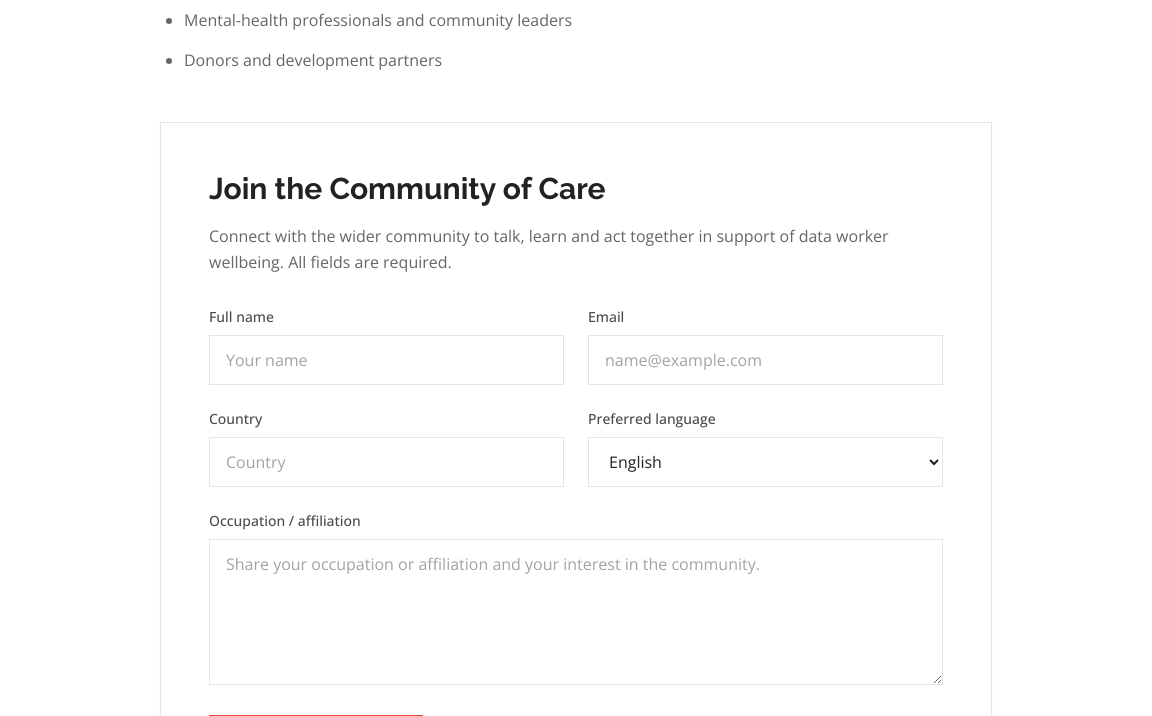
Test case: shows the service error when registration requires activation
(page scrolled)
Type "Test Member" into the field labelled "Full name" at coordinates (386, 360), box [209, 335, 564, 385]
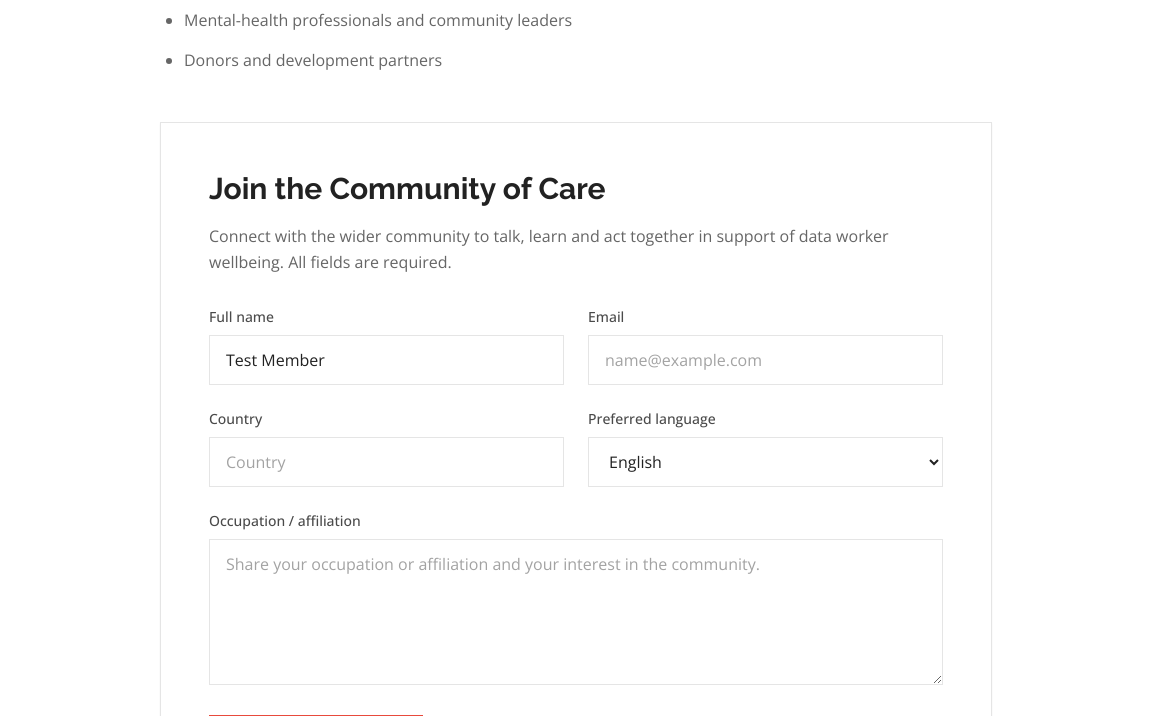
Type "member@example.com" into the field labelled "Email" at coordinates (766, 360), box [588, 335, 943, 385]
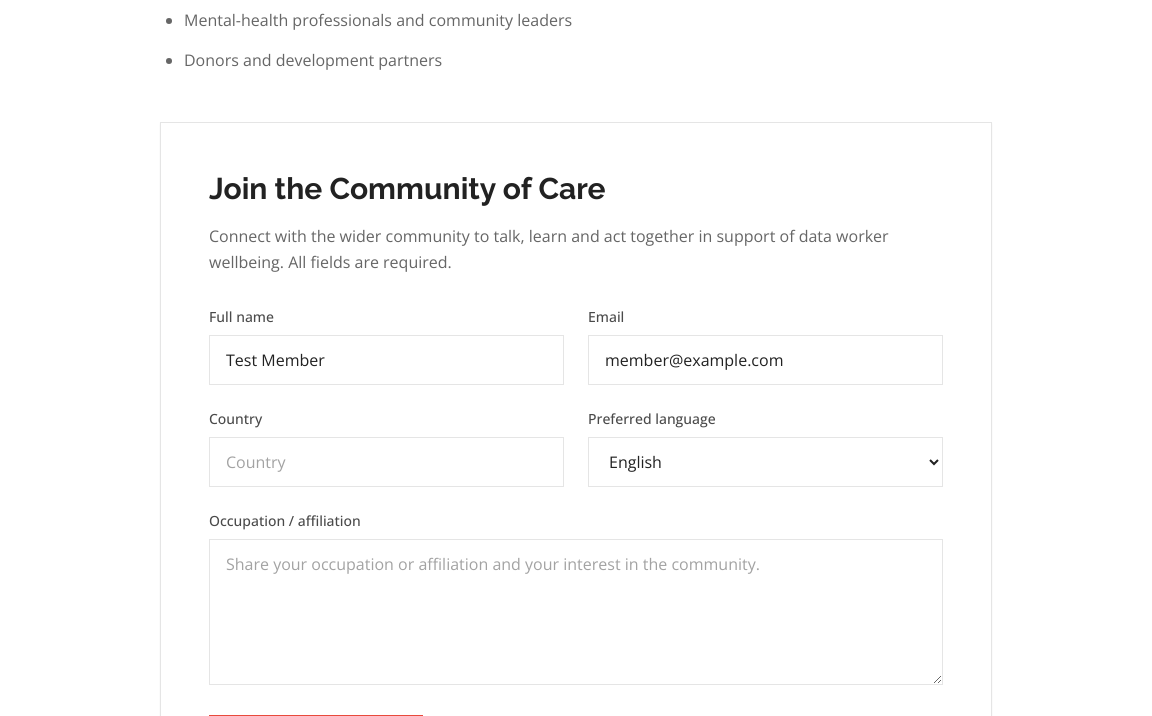
Type "Nigeria" into the field labelled "Country" at coordinates (386, 462), box [209, 437, 564, 487]
(page scrolled)
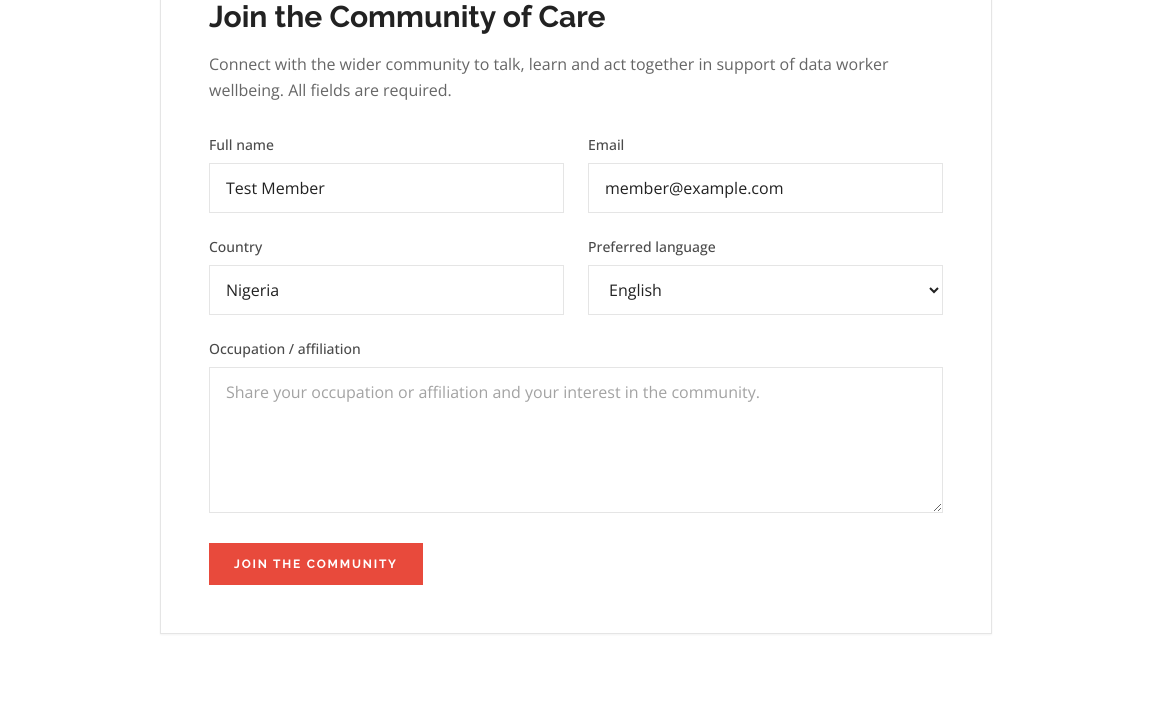
Submit the form named "Join the community", box [209, 135, 943, 585]
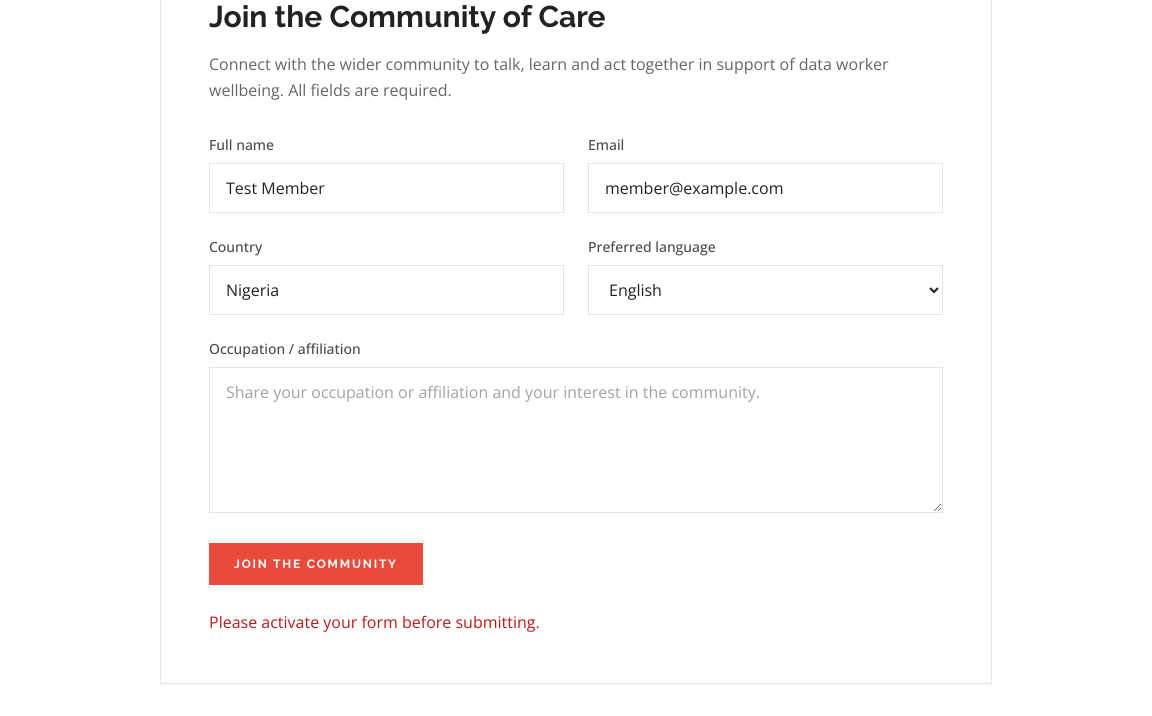
Check: the message reads "Please activate your form before submitting.", box [209, 611, 540, 633]
